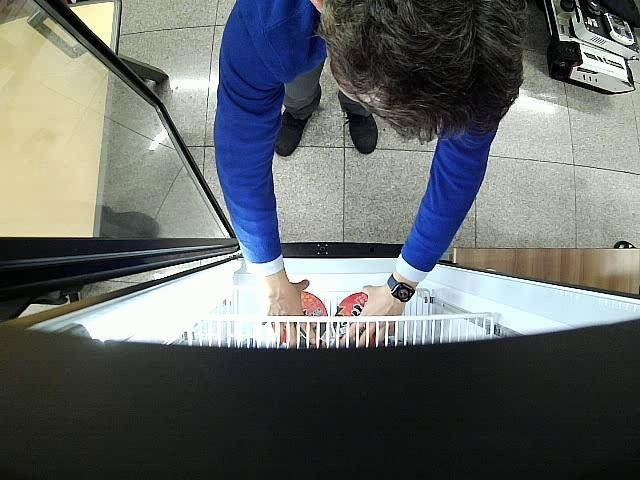01_ShinRamen_L: (272, 292, 328, 343), (332, 292, 377, 345)
